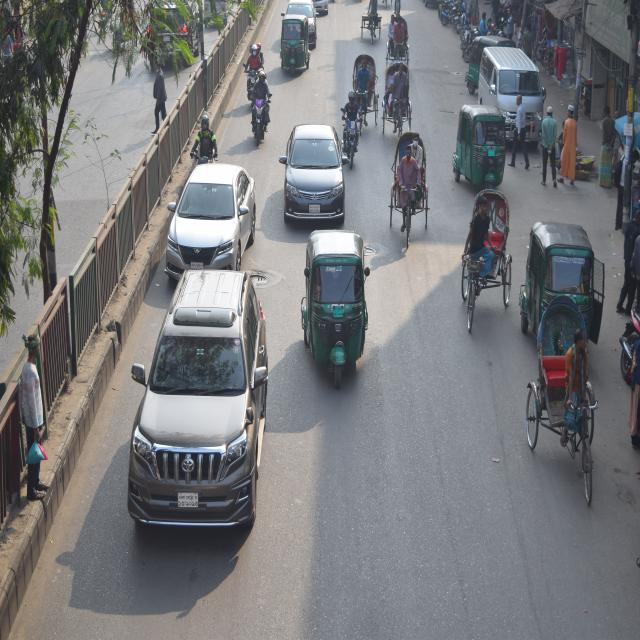car: (131, 271, 268, 551), (174, 172, 263, 262), (285, 121, 340, 227), (284, 1, 317, 40)
microbus: (478, 47, 541, 155)
motorbike: (615, 305, 640, 379), (248, 86, 272, 143), (342, 111, 362, 175), (242, 64, 262, 103)
